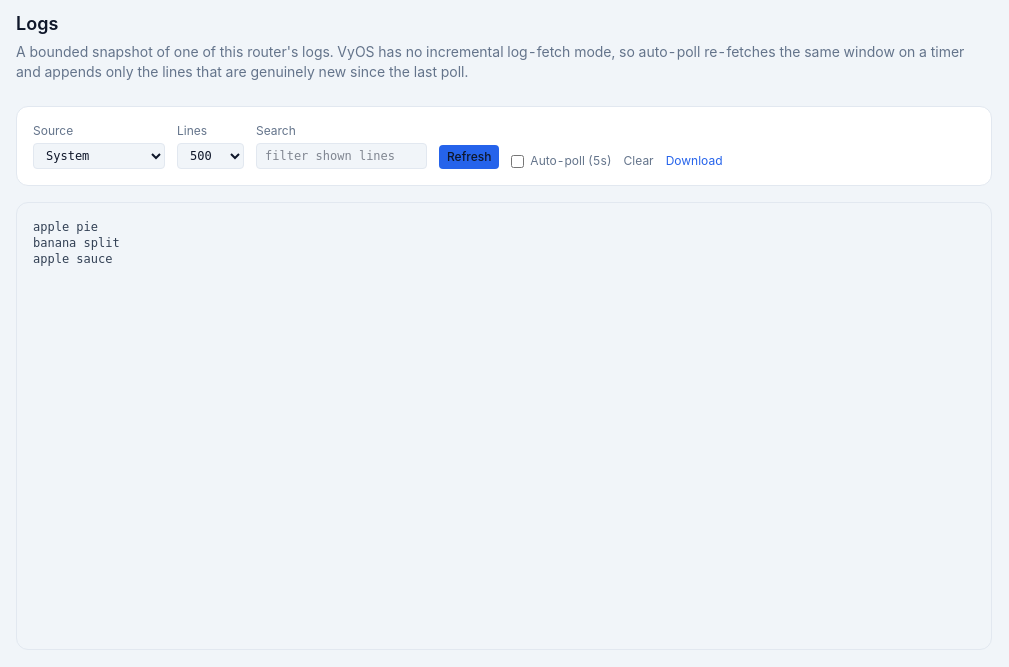
Scenario: LogsPage › filters the shown lines with the search box, client-side
The width and height of the screenshot is (1009, 667).
Step 1. Type "apple" into the field with placeholder "filter shown lines" → (342, 156), box [256,143,427,169]
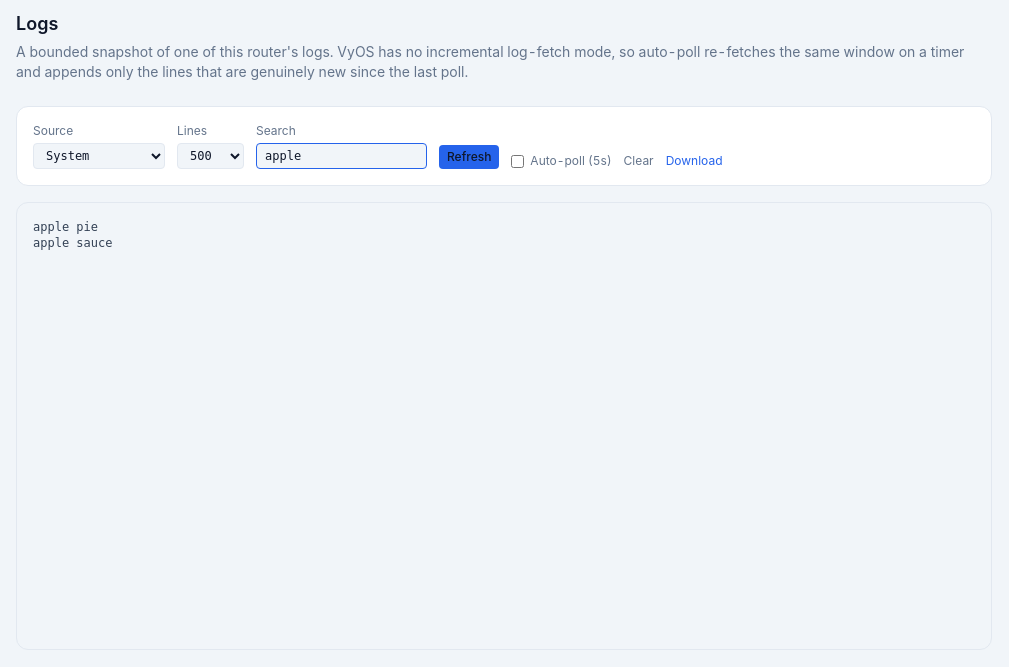
Now the text "banana split" is gone
